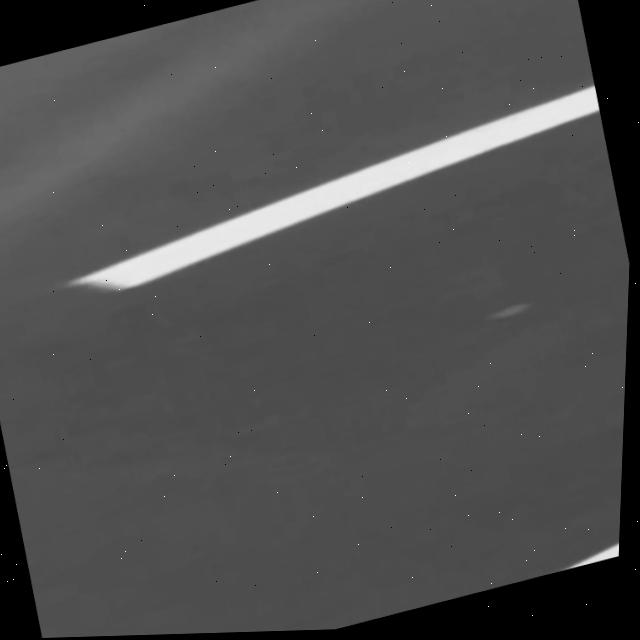center: (68, 84, 598, 289)
left: (560, 542, 619, 570)
